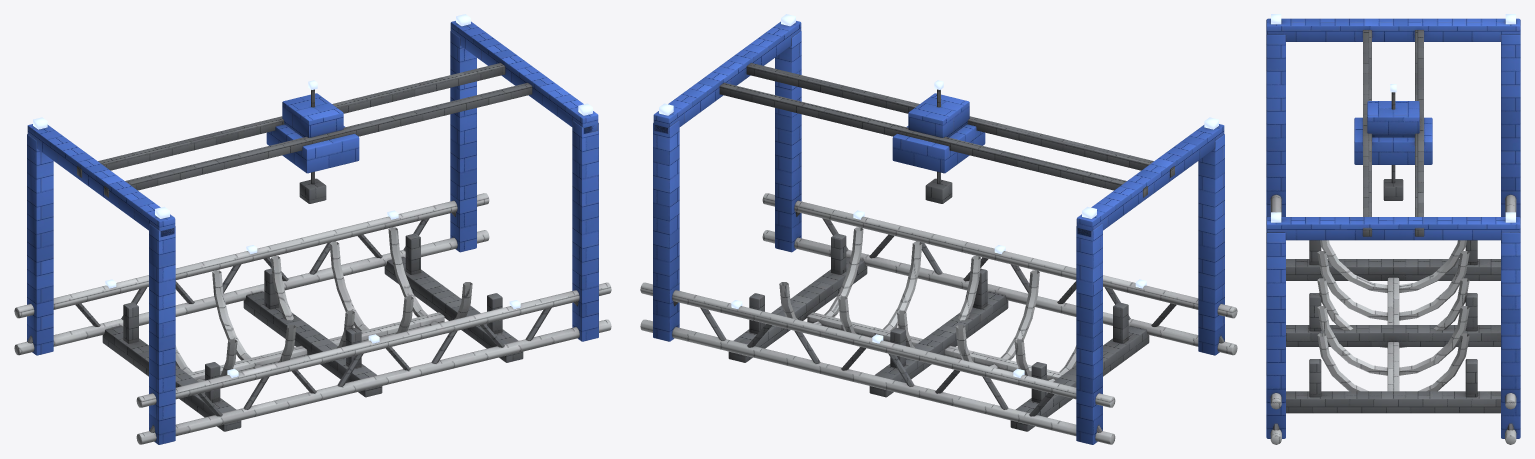
File: shipyard.glb
The picture shows the model from 3 angles, left to right: view 1: azimuth 30°, elevation 25°; view 2: azimuth 150°, elevation 25°; view 3: azimuth 270°, elevation 25°; orthographic projection. The views are drawn at different scales.
Visible parts, largest first — view 1: Shipyard, CraneTrolley; view 2: Shipyard, CraneTrolley; view 3: Shipyard, CraneTrolley.
Boxes of the visible parts, x1=… form: Shipyard: x1=14, y1=14, x2=611, y2=444; CraneTrolley: x1=266, y1=80, x2=359, y2=203; Shipyard: x1=640, y1=14, x2=1237, y2=444; CraneTrolley: x1=892, y1=80, x2=985, y2=203; Shipyard: x1=1266, y1=14, x2=1520, y2=444; CraneTrolley: x1=1354, y1=84, x2=1432, y2=200.
Size of the model in its own units: 8 by 4.47 by 3.9.
Materials: 2 (1 with a texture image).
